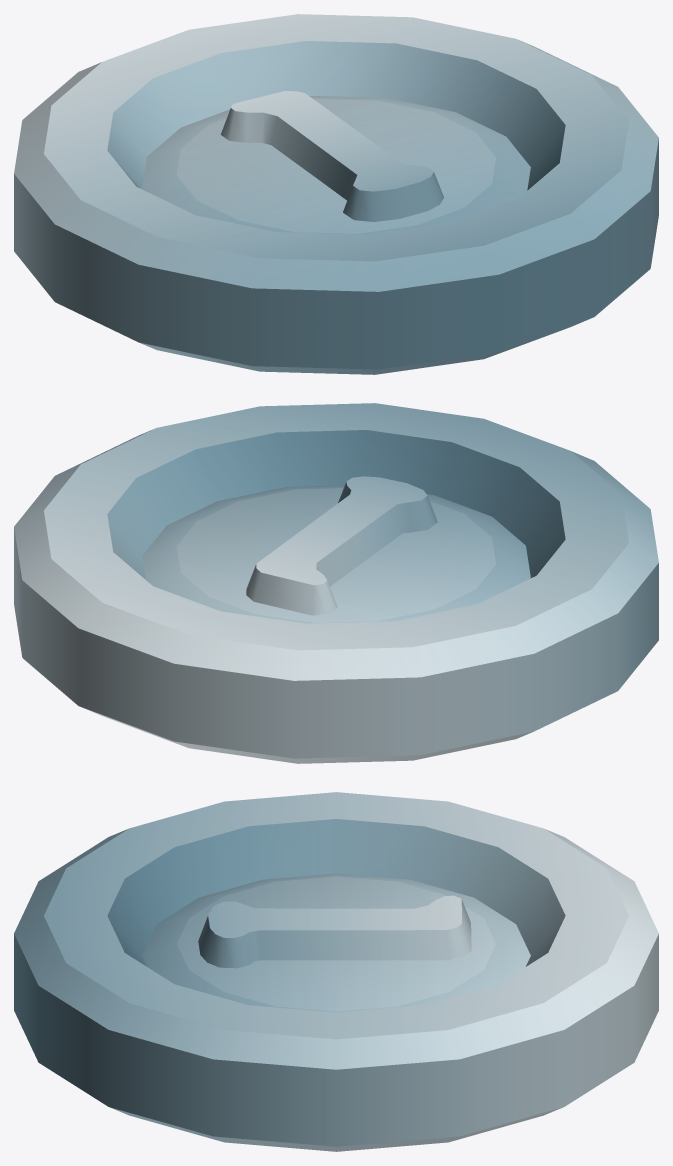
Rendered from coin_1_silver.glb.
3 views of the same model, one above another, from view 1: azimuth 30°, elevation 25°; view 2: azimuth 150°, elevation 25°; view 3: azimuth 270°, elevation 25° (orthographic).
Visible parts, largest first — view 1: coin_1_silver; view 2: coin_1_silver; view 3: coin_1_silver.
Part boxes in pixels (<box>): coin_1_silver: <box>14,14,658,374</box>; coin_1_silver: <box>14,403,658,763</box>; coin_1_silver: <box>14,792,658,1151</box>.
Size of the model in its own units: 1.04 by 0.2 by 1.04.
1 material, 1 textured.
